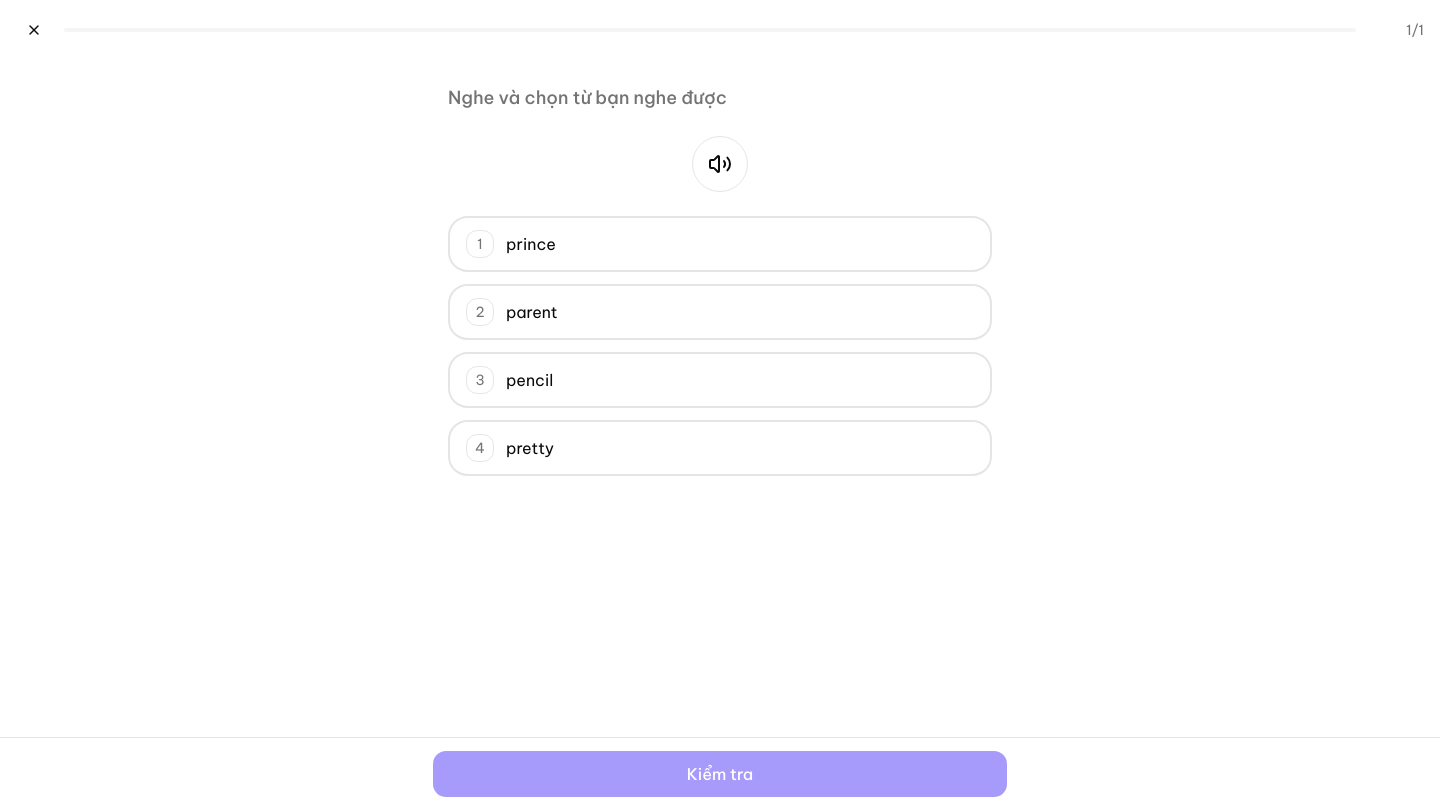
Test case: finishing › shows the word, its IPA and meaning only after a listening answer is checked
Expected: the text "hoàng tử" is not shown
Click the radio button labelled "1 prince".
click(531, 244)  # box [448,216,992,272]
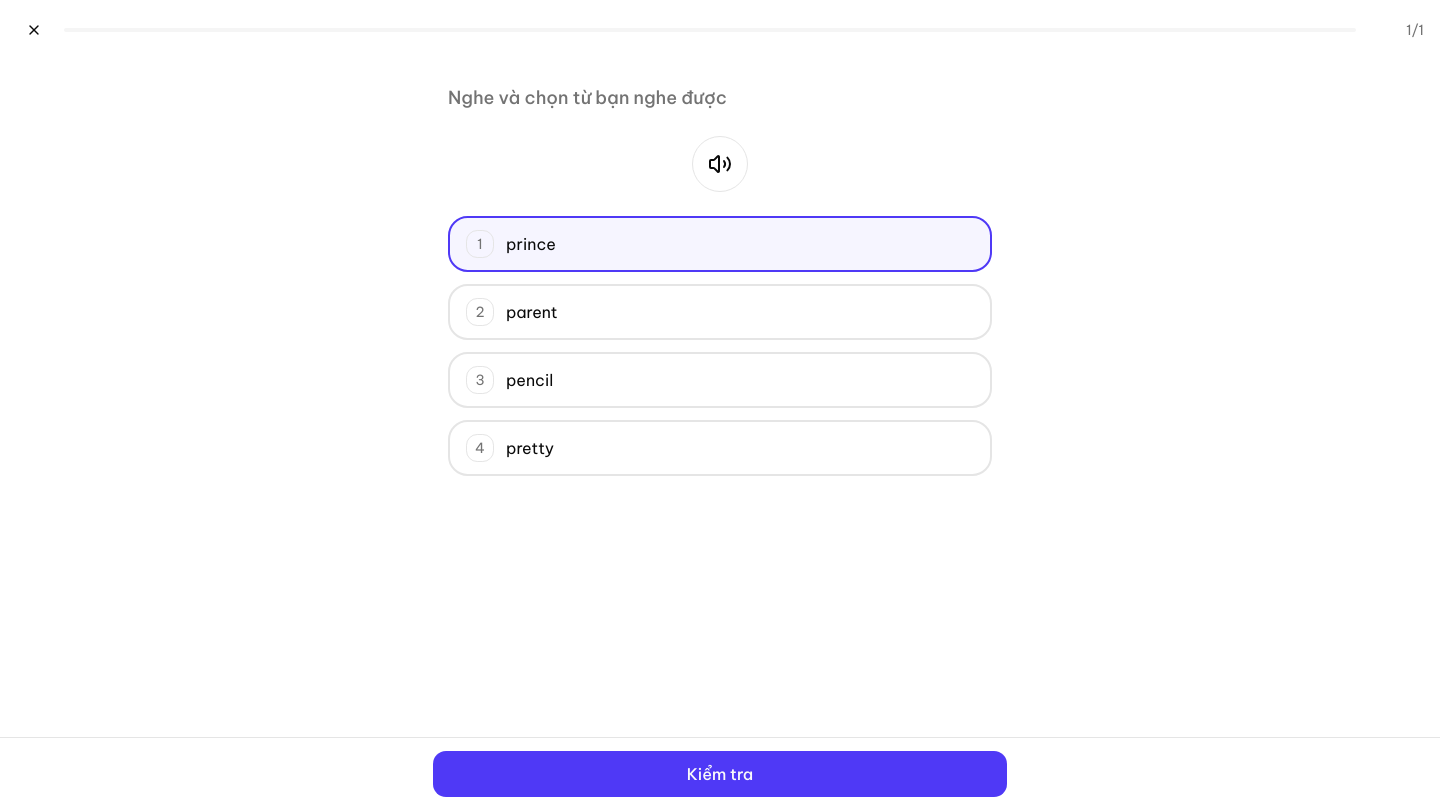
Click the button "Kiểm tra".
click(720, 774)  # box [432,750,1008,798]
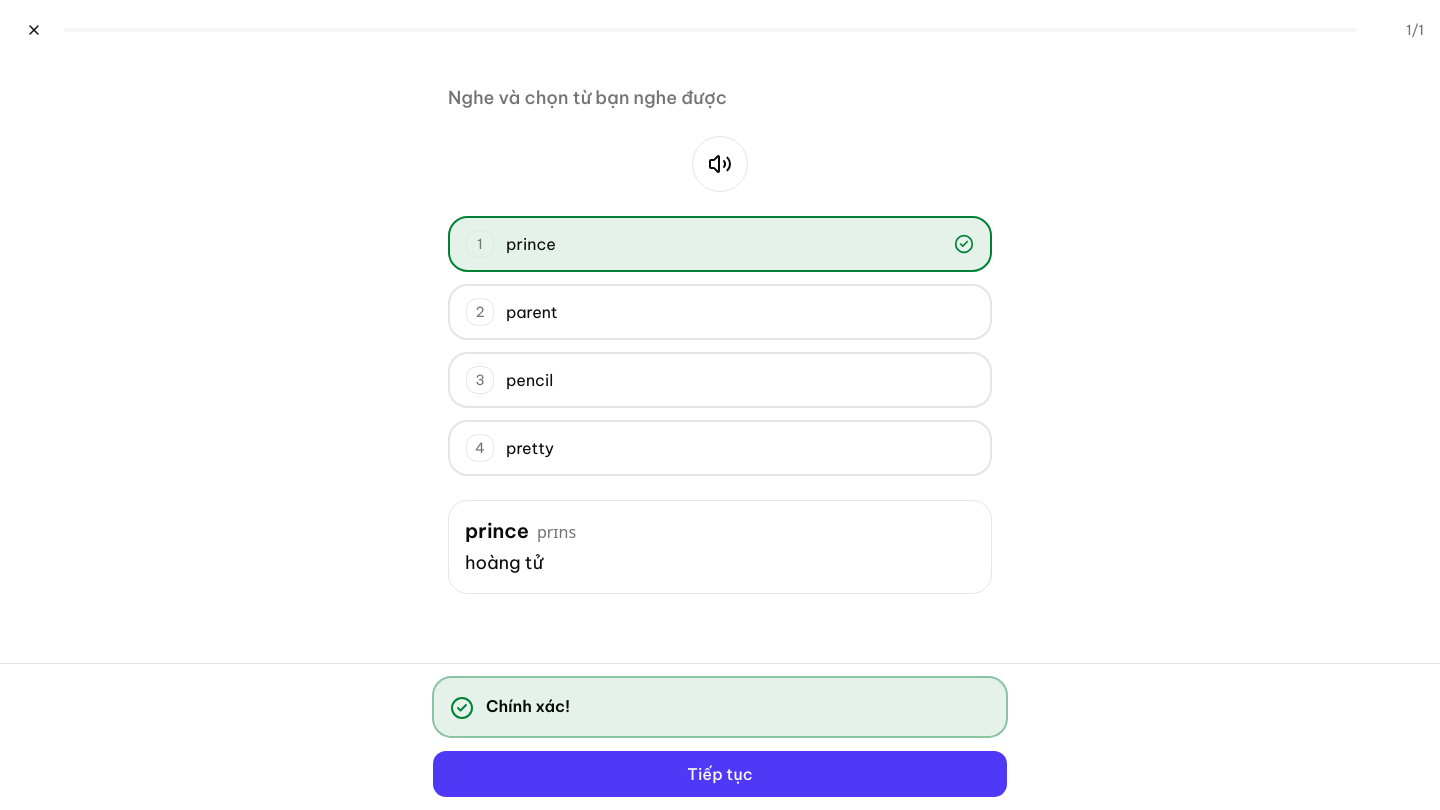
Expected: the element named "Nghĩa của từ" shows "prince", [465,518,529,543]
Expected: the element named "Nghĩa của từ" shows "prɪns", [537,521,576,543]
Expected: the element named "Nghĩa của từ" shows "hoàng tử", [465,551,543,574]
